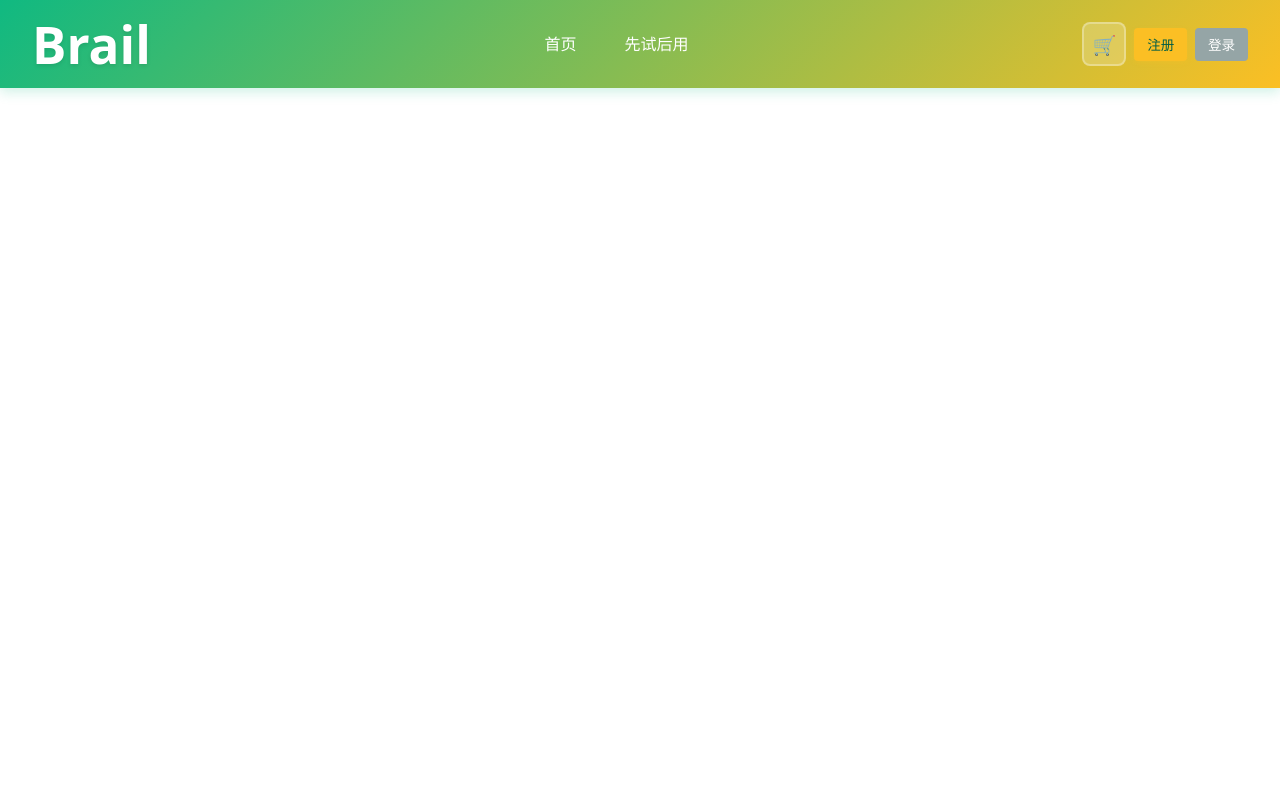
Scenario: Header.vue 注册功能单元测试 › 按钮状态测试 › 有效表单时注册按钮应该可用
The width and height of the screenshot is (1280, 800).
Click the button "注册". click: point(1161, 44)
box: [1134,28,1187,61]
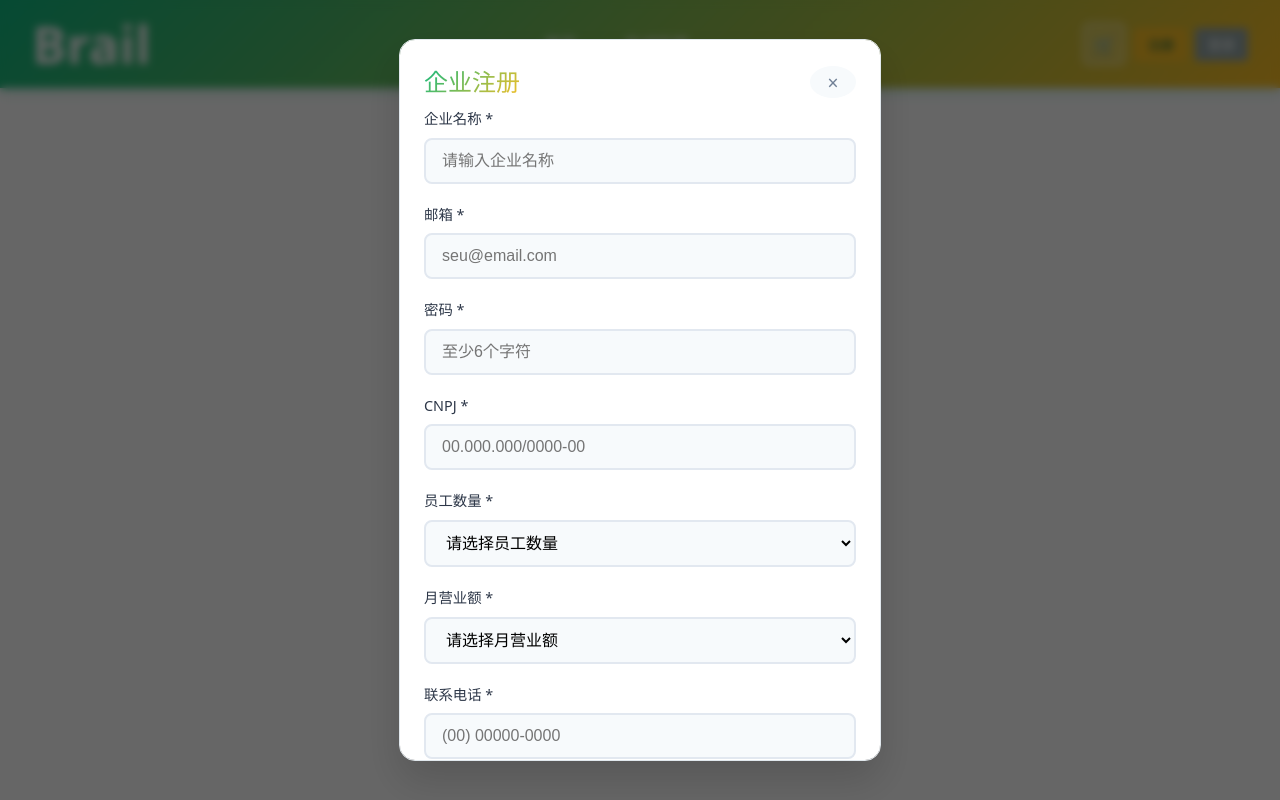
Type "测试科技有限公司" into the field with id "name". click: point(640, 161)
box: [424,138,856,184]
Type "12.345.678/0001-90" into the field with id "cnpj". click: point(640, 447)
box: [424,424,856,470]
Type "test@company.com" into the field with id "email". click: point(640, 256)
box: [424,233,856,279]
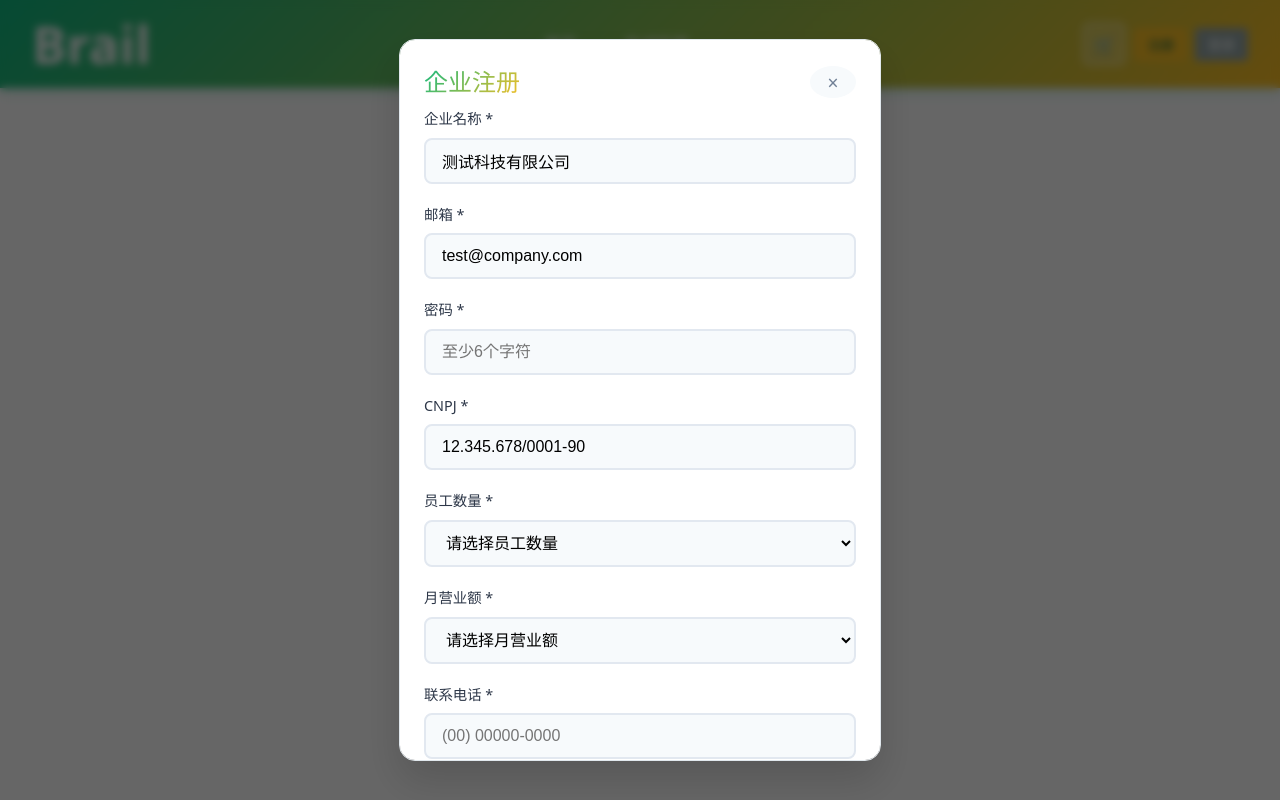
Type "password123" into the password field labelled "密码 *". click: point(640, 352)
box: [424,329,856,375]
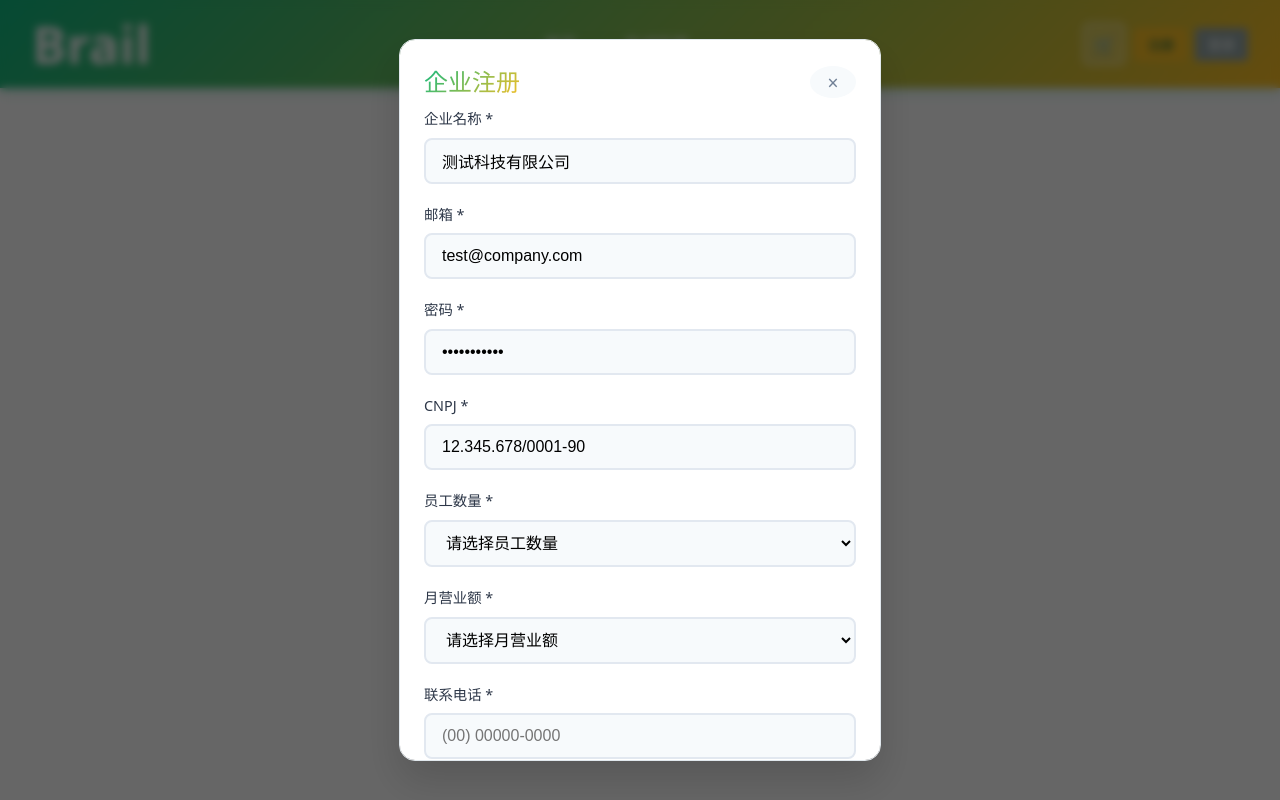
Type "(11) 99999-9999" into the field labelled "联系电话 *". click: point(640, 736)
box: [424,713,856,759]
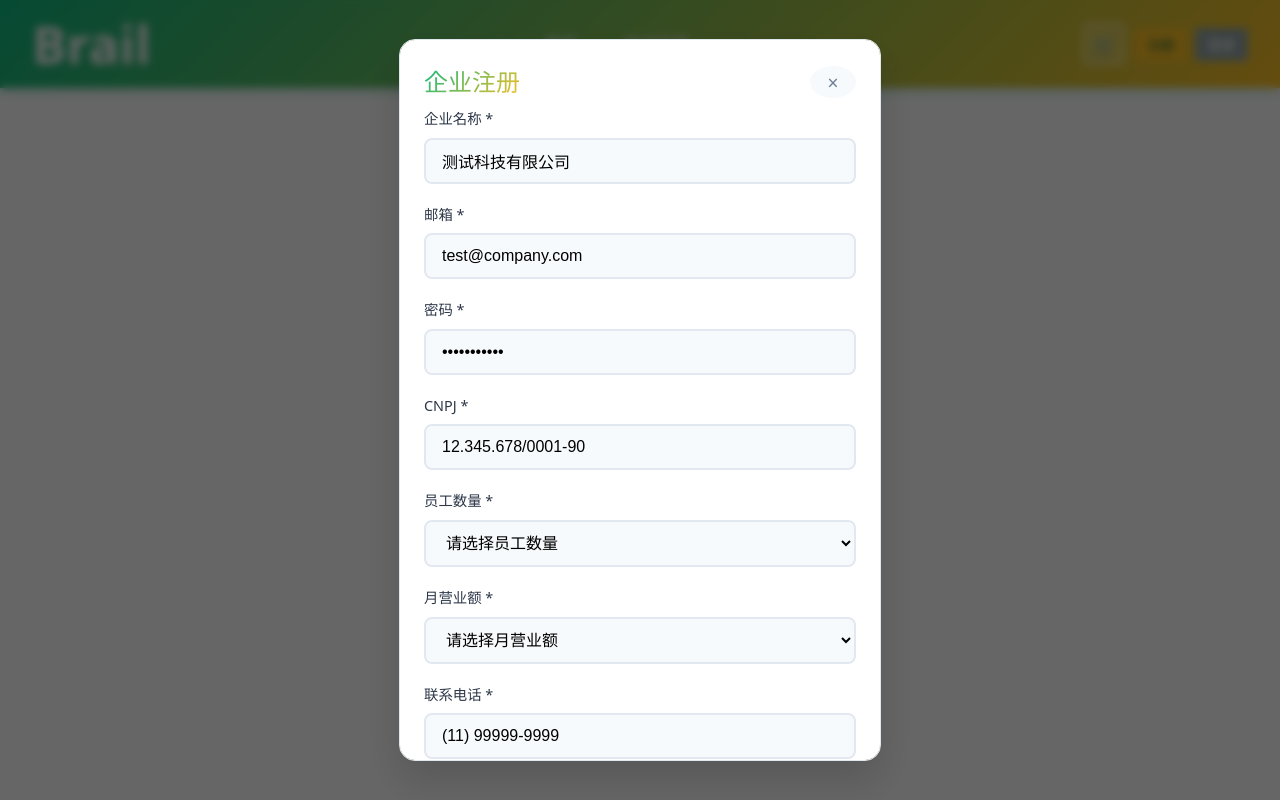
Select "11-50人" in the dropdown with id "employeeCount". click: point(640, 544)
box: [424,520,856,567]
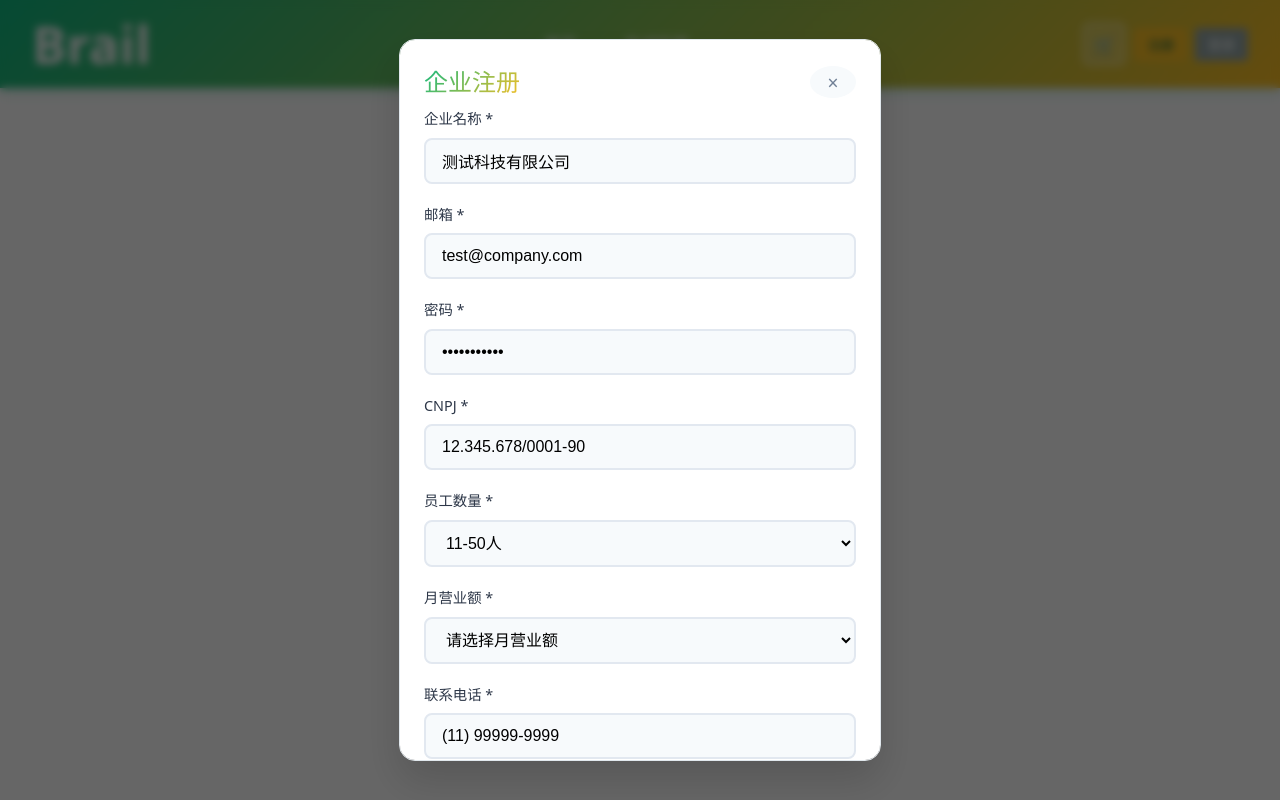
Select "5-10万元" in the dropdown with id "monthlyRevenue". click: point(640, 640)
box: [424,617,856,664]
(page scrolled)
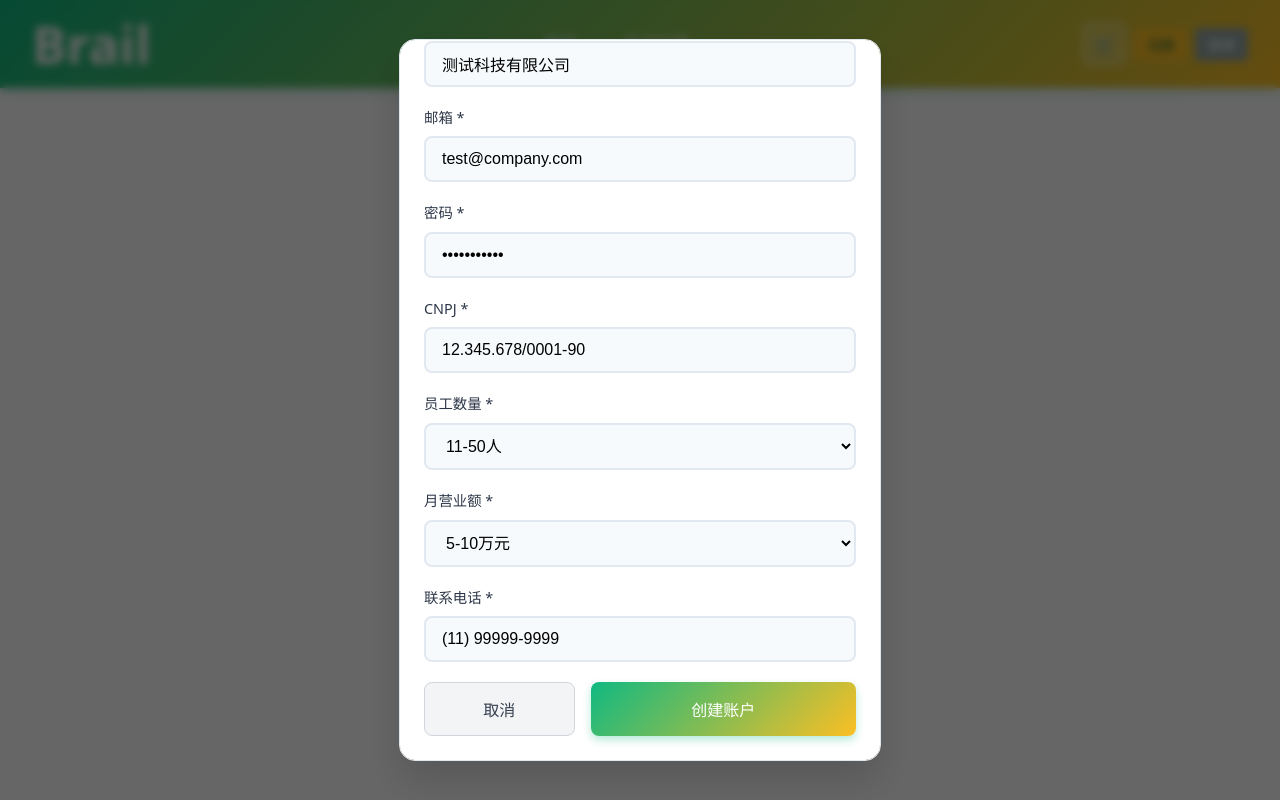
Now the submit button is enabled, box [591,682,856,736]
